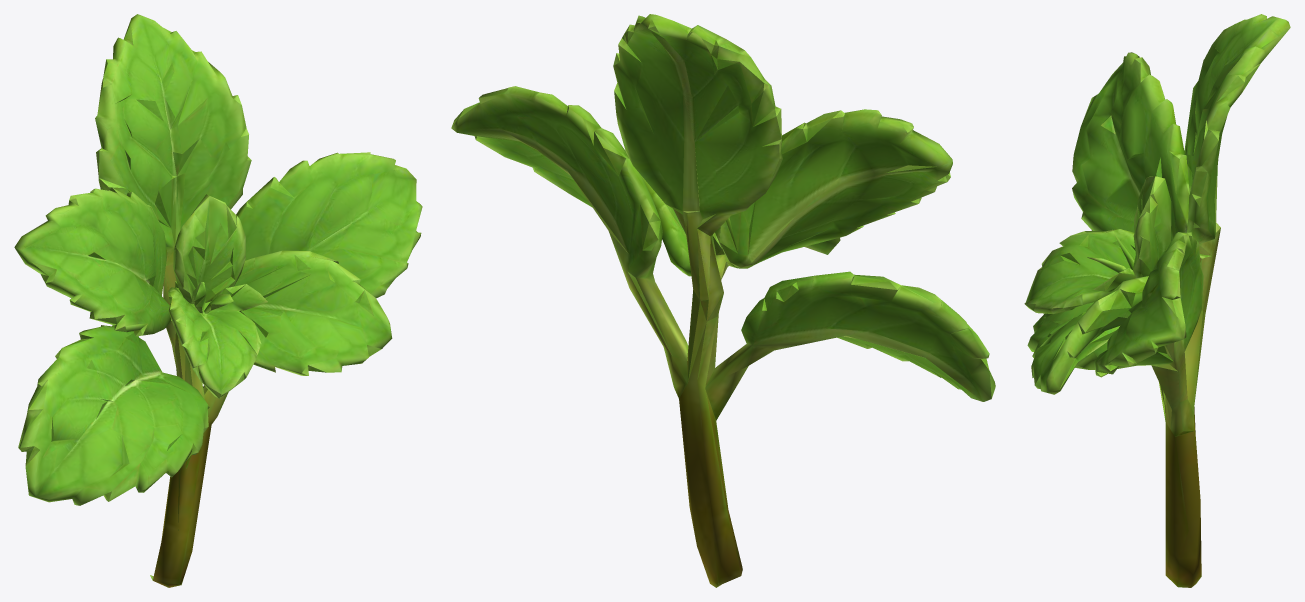
The model's file is mint.gltf.
The picture shows the model from 3 angles, left to right: view 1: azimuth 30°, elevation 25°; view 2: azimuth 150°, elevation 25°; view 3: azimuth 270°, elevation 25°; orthographic projection. The views are drawn at different scales.
Visible parts, largest first — view 1: mint; view 2: mint; view 3: mint.
Part boxes in pixels (x1,y1,x2,y2): mint: (14, 14, 422, 587); mint: (451, 14, 995, 587); mint: (1024, 14, 1290, 587).
Bounding box in the file's own units: 0.7685 × 0.9 × 0.3789.
Materials: 1 (1 with a texture image).
